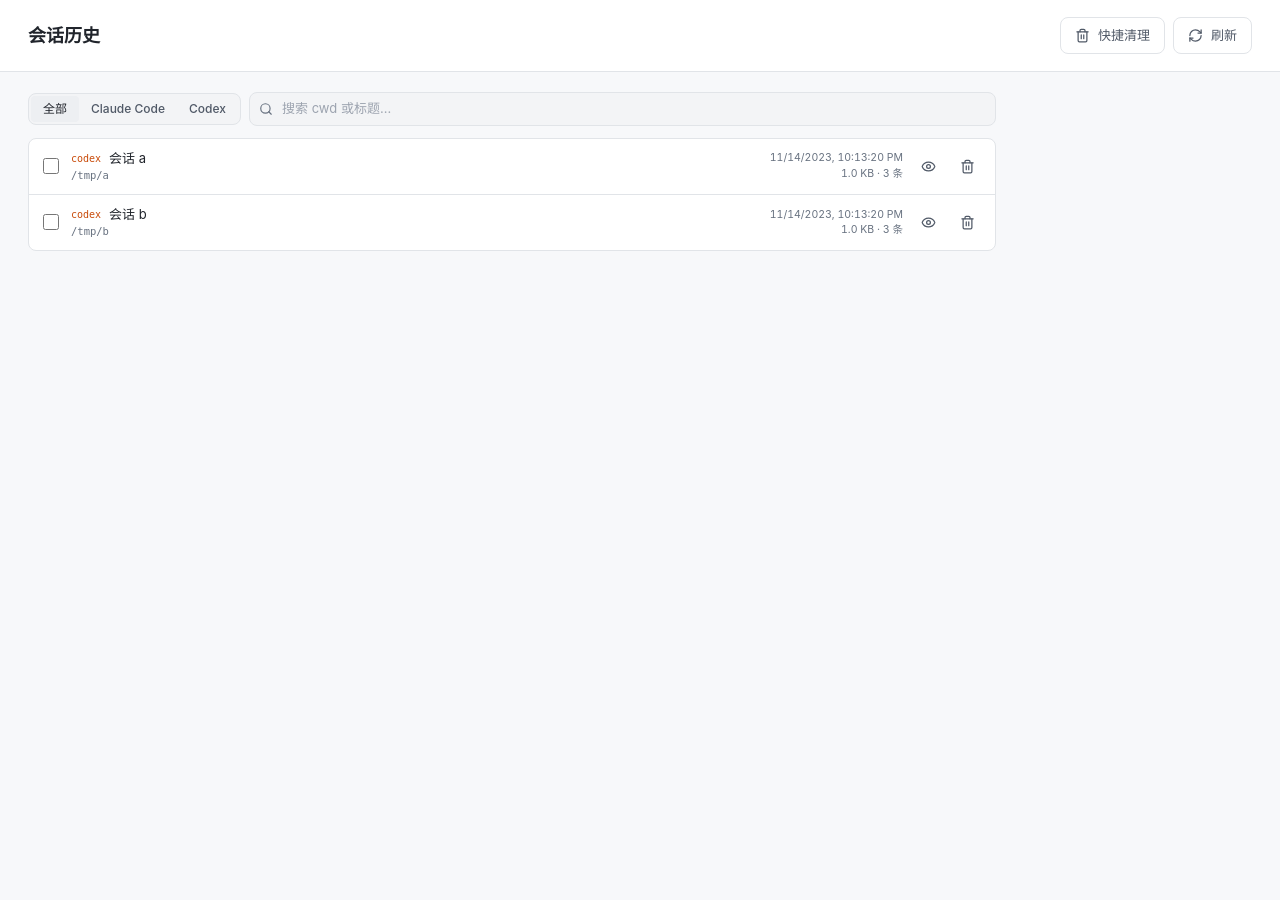
Scenario: HistoryPage — 预览 › 点预览拉取消息并展示角色
Expected: the text "会话 a" is shown, [109,148,146,168]
Click the button titled "预览" in the row of "会话 a". click: (928, 166)
box: [915,153,942,180]
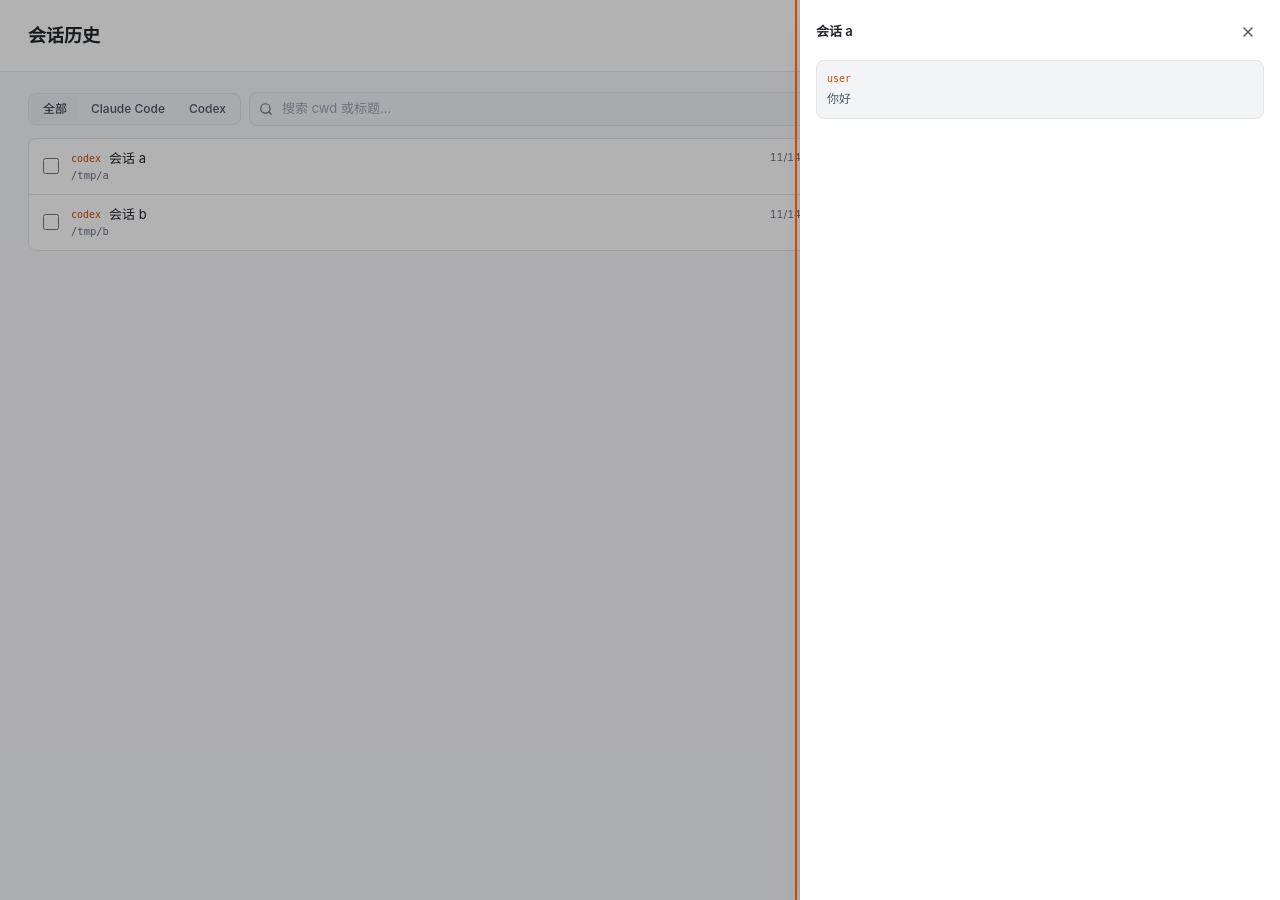
Expected: the text "user" is shown, [827,73,851,84]
Expected: the text "你好" is shown, [827,91,851,106]
